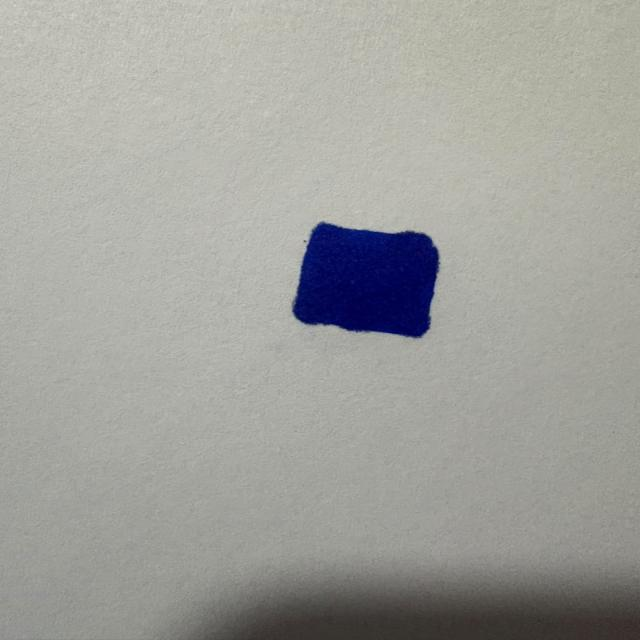Square: (286, 218, 445, 342)
